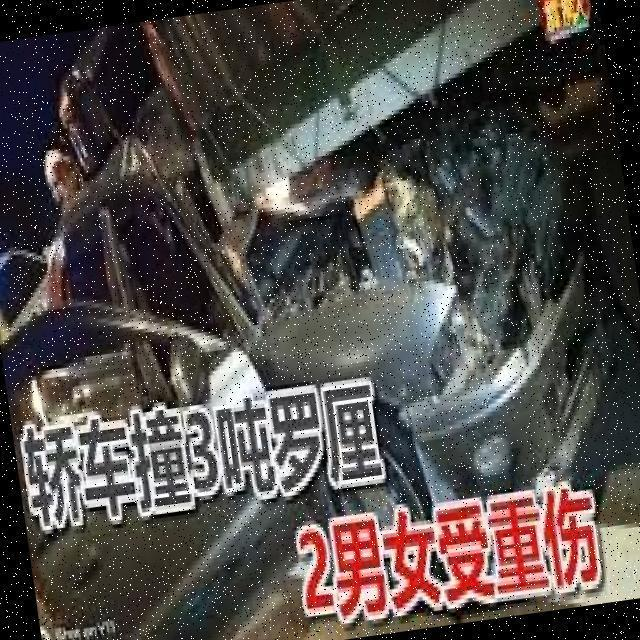accident: (72, 29, 629, 566)
